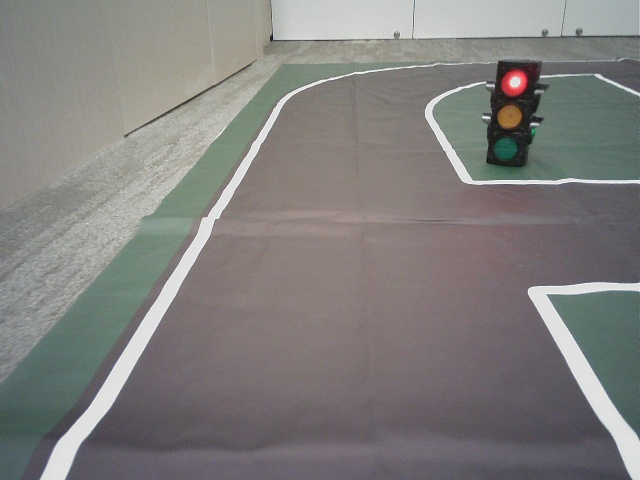red: (491, 69, 528, 163)
